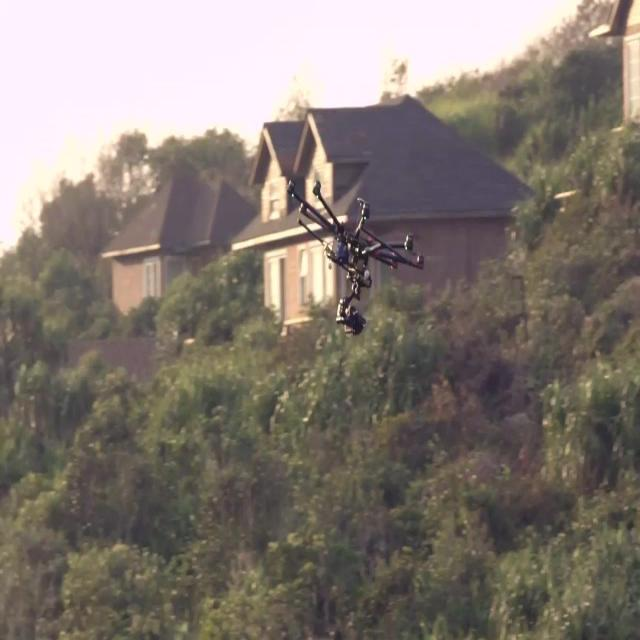drone: (287, 175, 426, 338)
